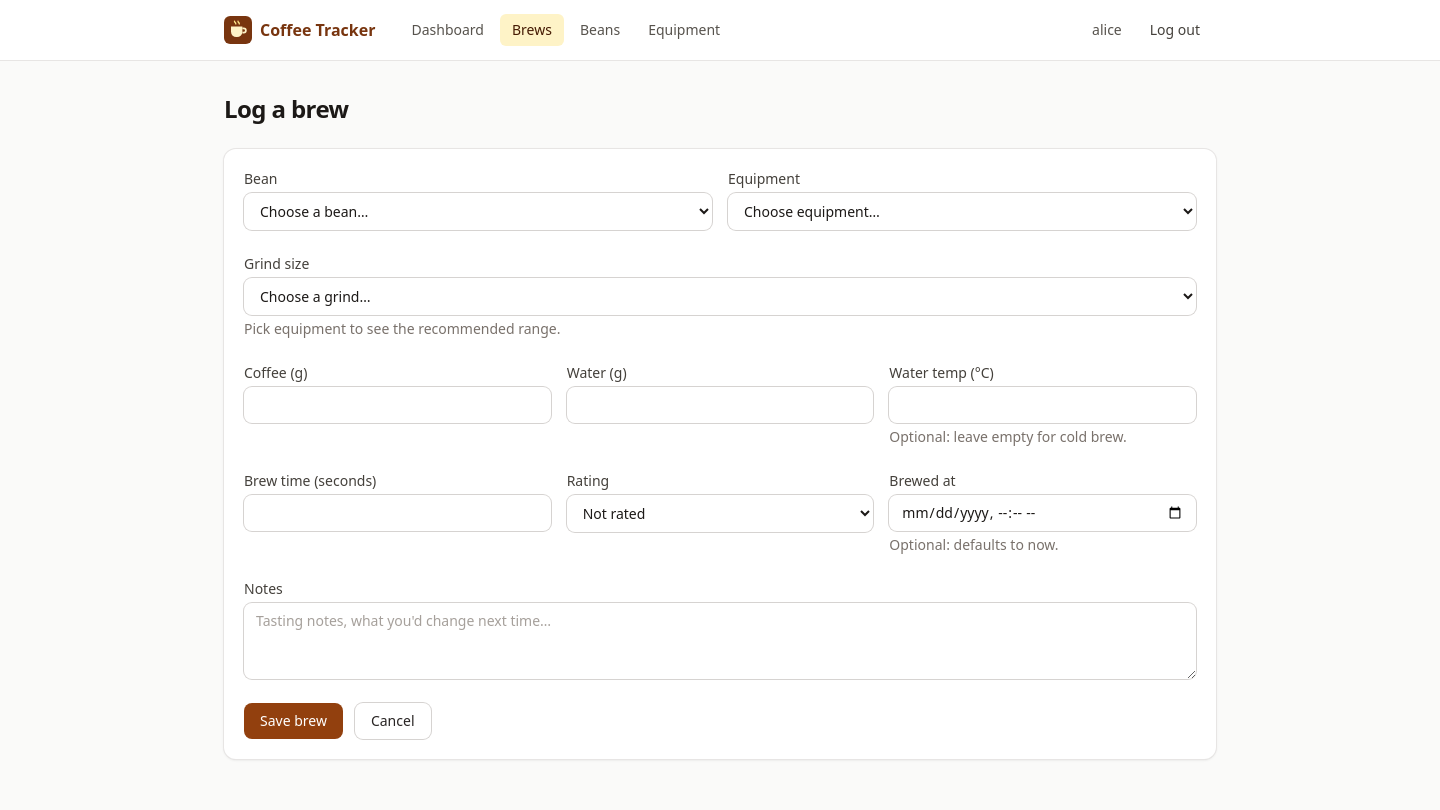
BrewFormPage › converts the form into the typed request and returns to the list
Select "Ethiopia Guji" in the dropdown labelled "Bean" at coordinates (478, 212), box [244,193,712,230]
Select "Phin (Phin)" in the dropdown labelled "Equipment" at coordinates (962, 212), box [728,193,1196,230]
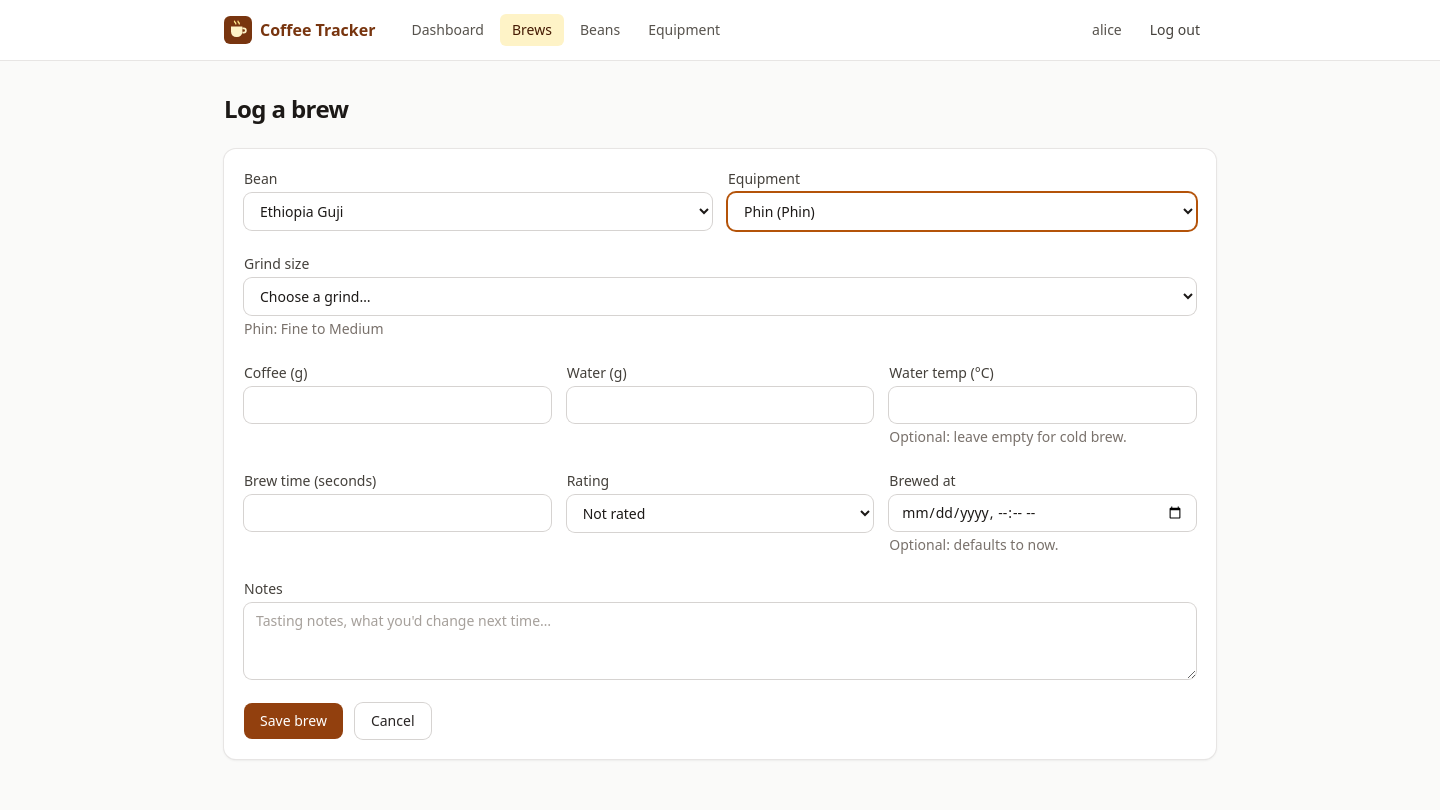
Select "Fine" in the dropdown labelled "Grind size" at coordinates (720, 296), box [244,278,1196,315]
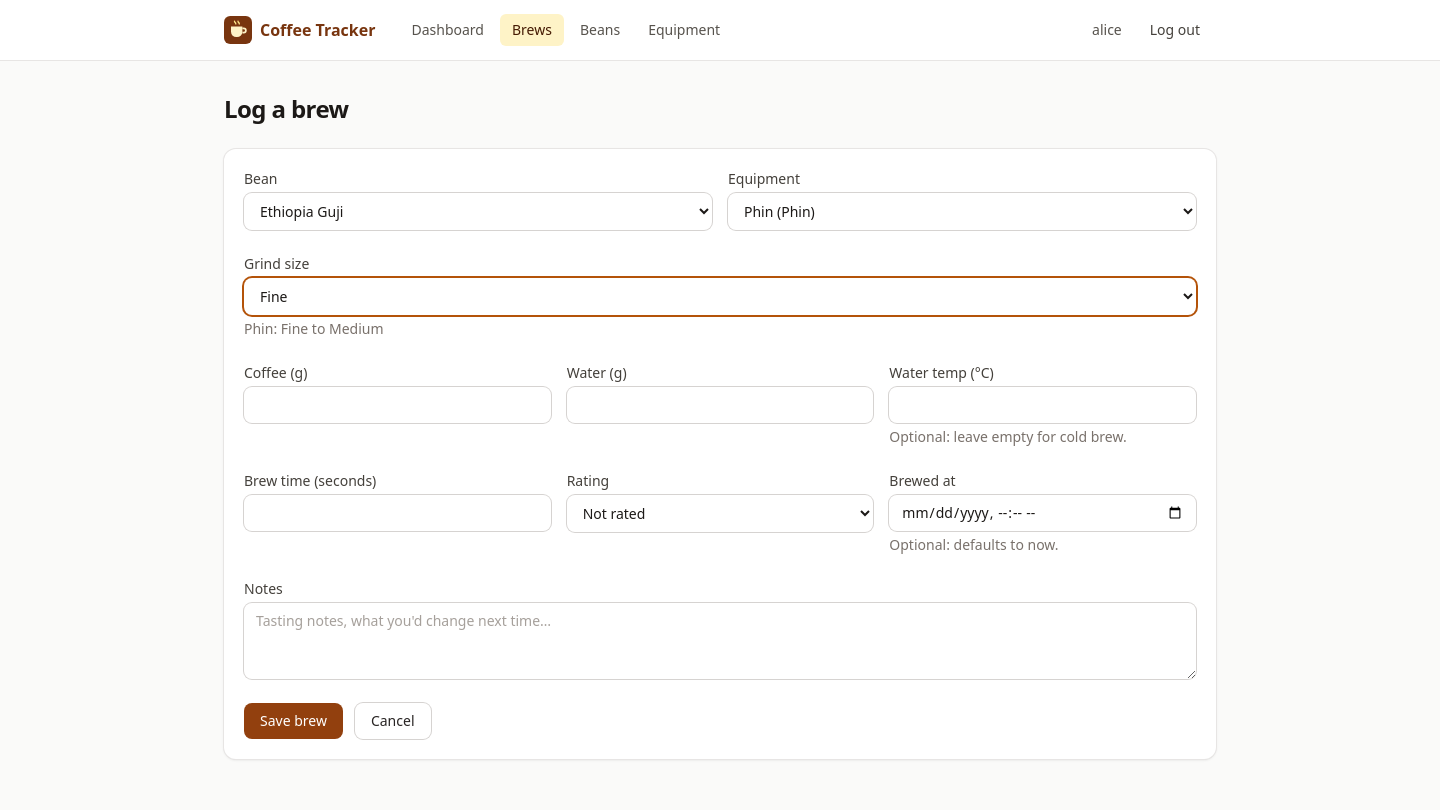
Type "20" into the number field labelled "Coffee (g)" at coordinates (397, 405), box [244,387,551,423]
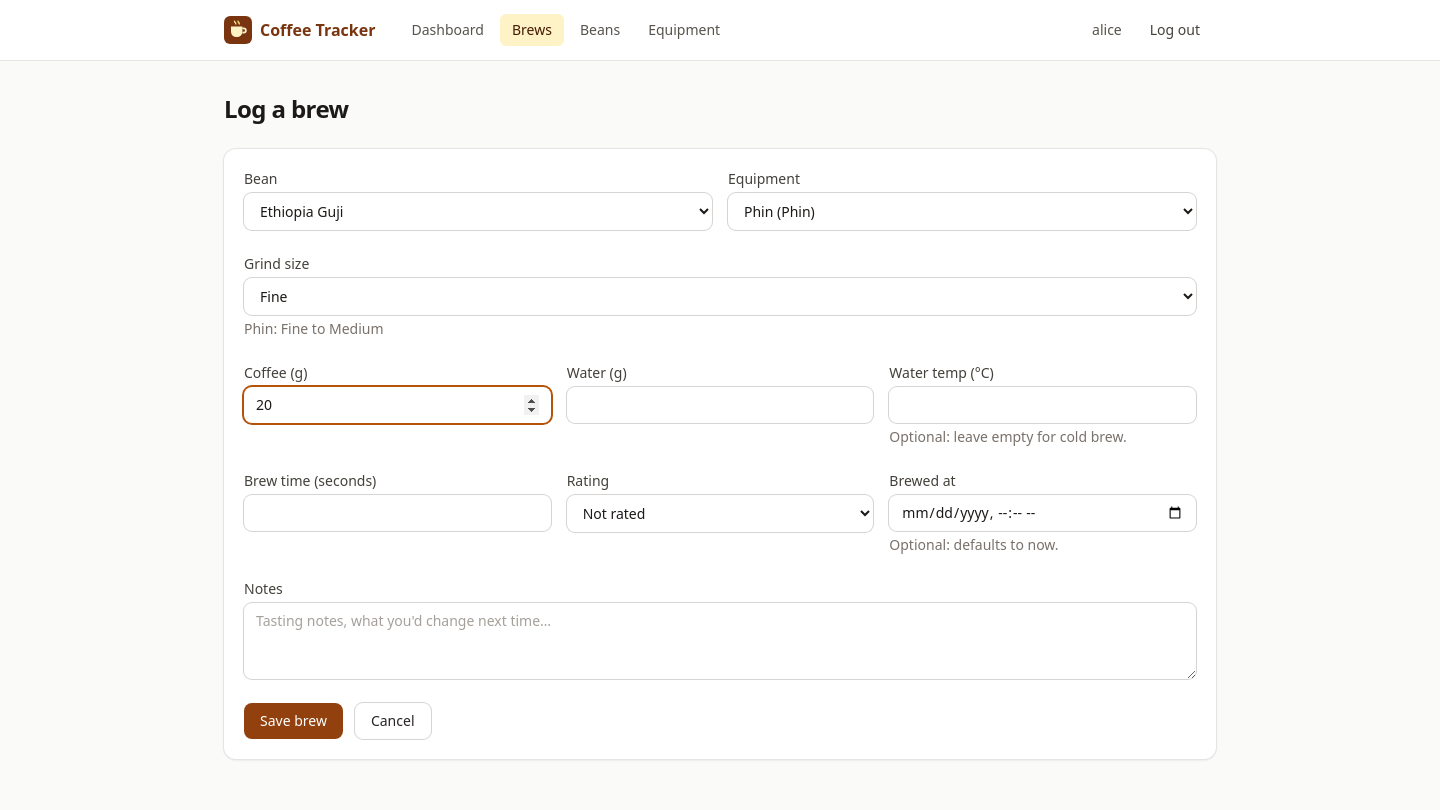
Type "100" into the number field labelled "Water (g)" at coordinates (720, 405), box [567,387,873,423]
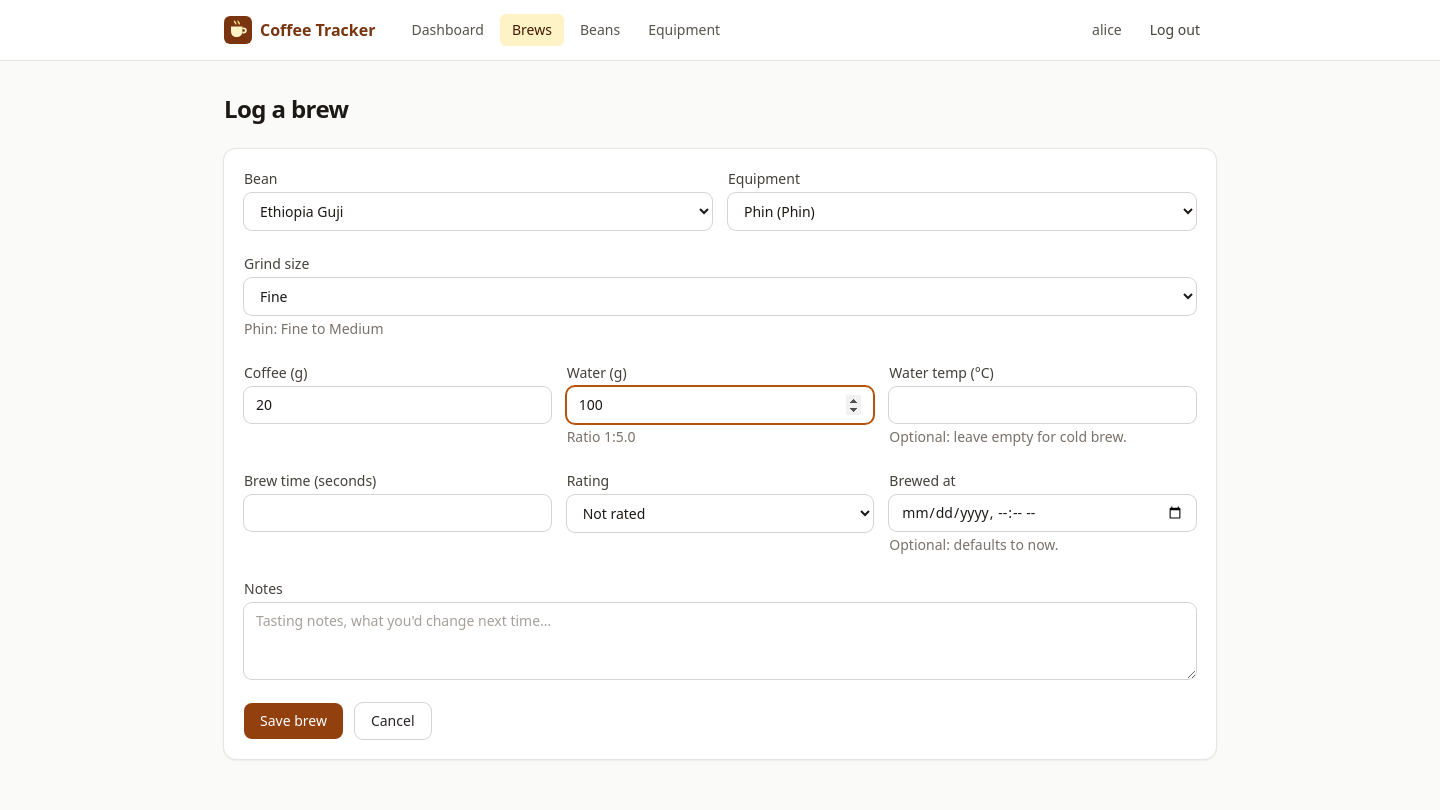
Type "300" into the number field labelled "Brew time (seconds)" at coordinates (397, 513), box [244,495,551,531]
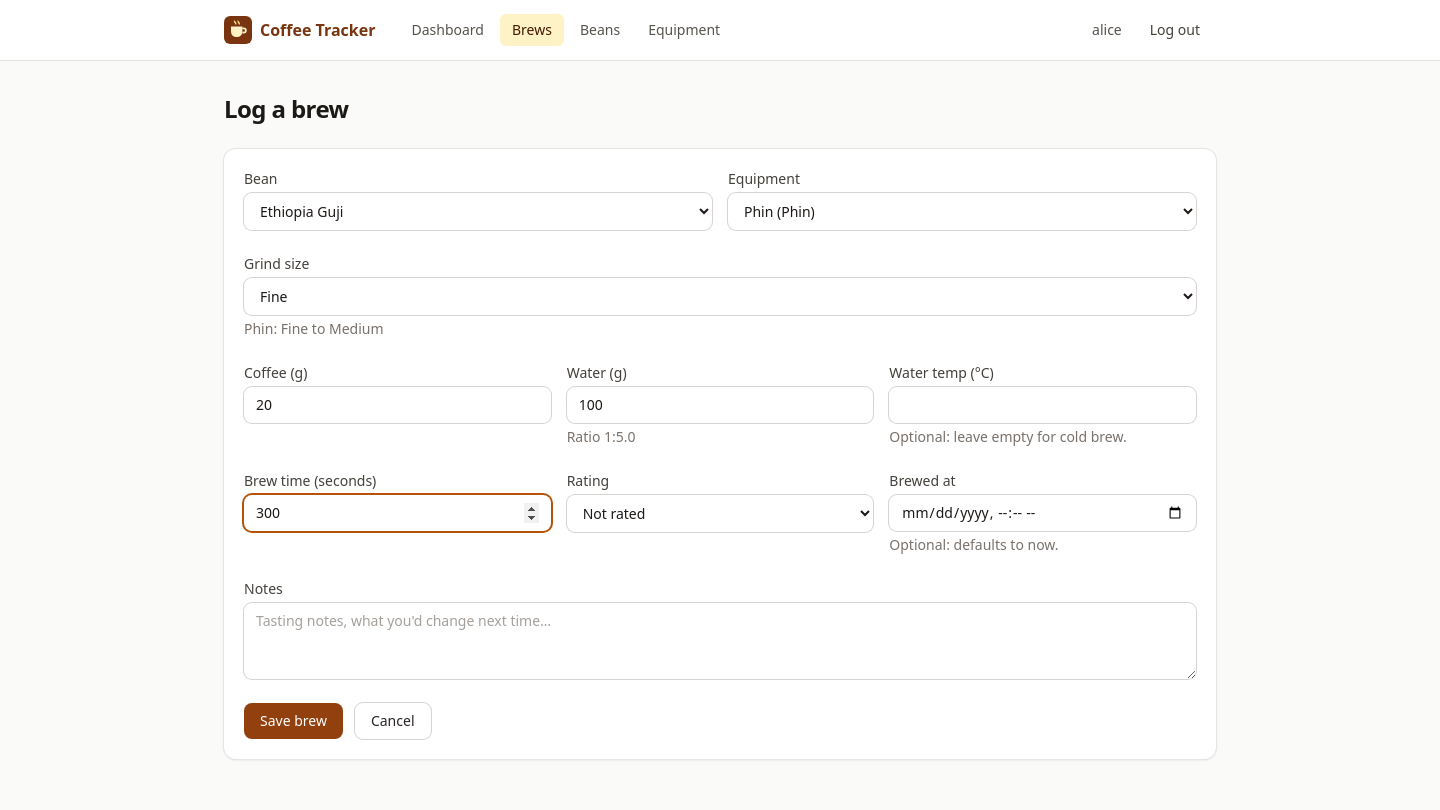
Click the button "Save brew" at coordinates (293, 721), box [244,703,343,739]
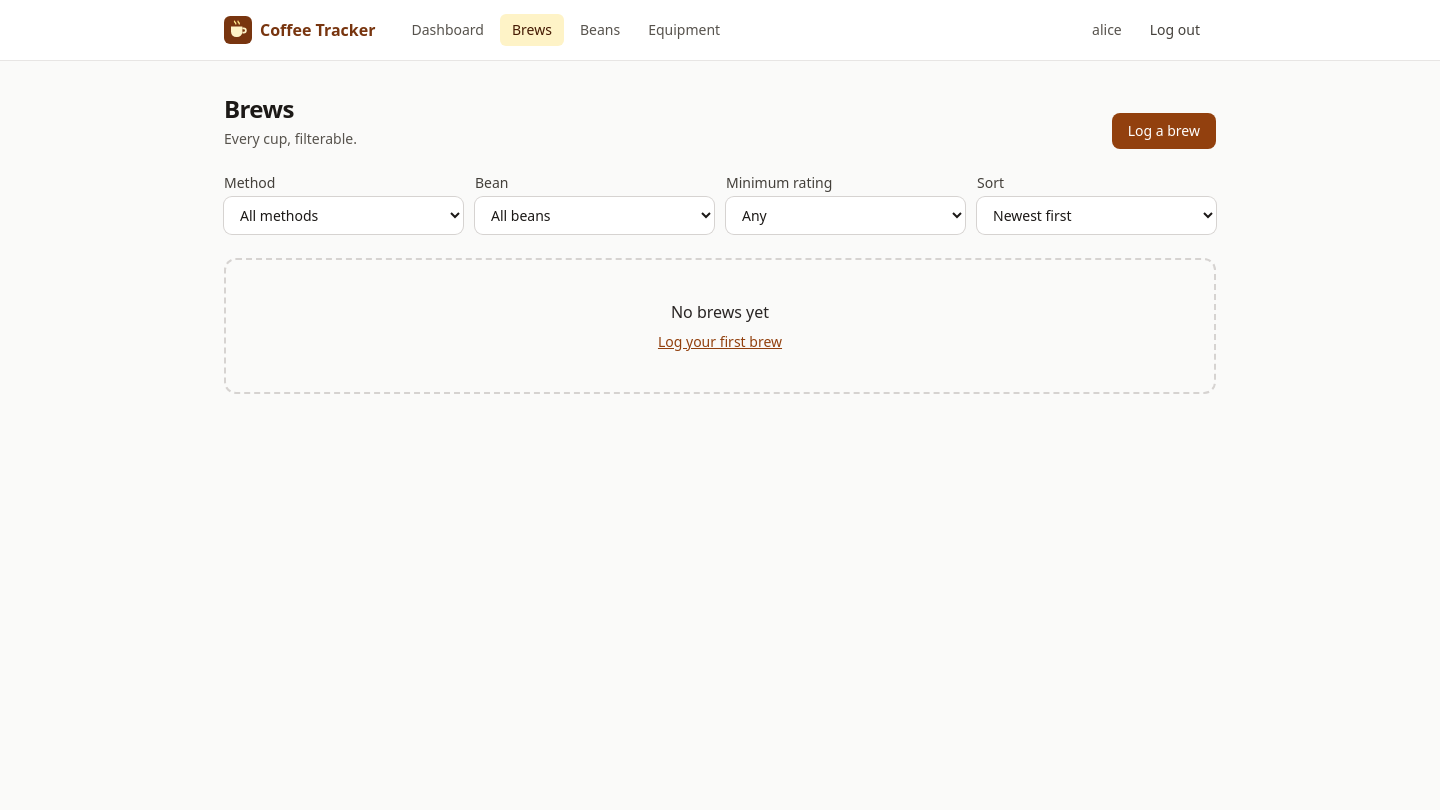
Check: the heading "Brews" is shown, box [224,92,294,125]
